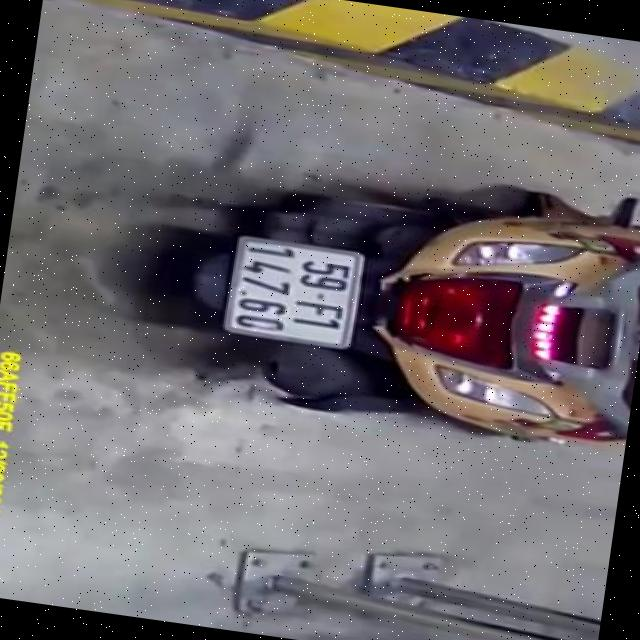license_plate: (218, 232, 364, 354)
